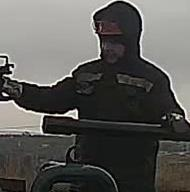gloves: (2, 76, 26, 102), (162, 109, 189, 126)
helmet: (94, 12, 125, 35)
vest: (74, 56, 166, 180)
